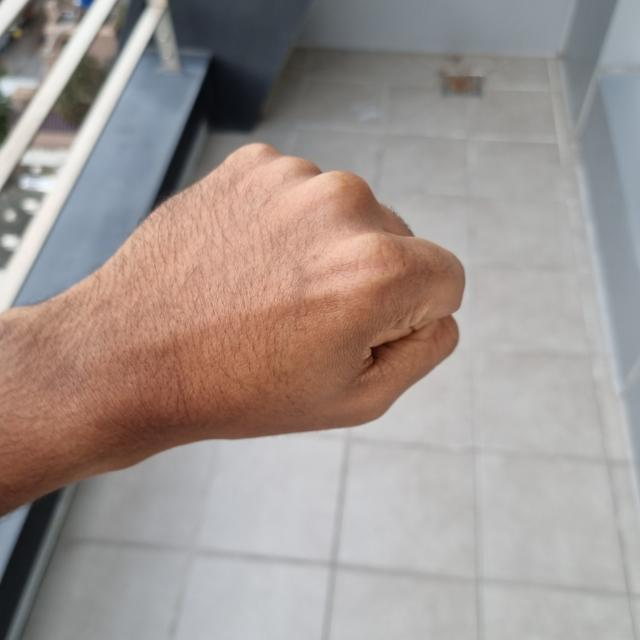Rock: (66, 147, 462, 441)
